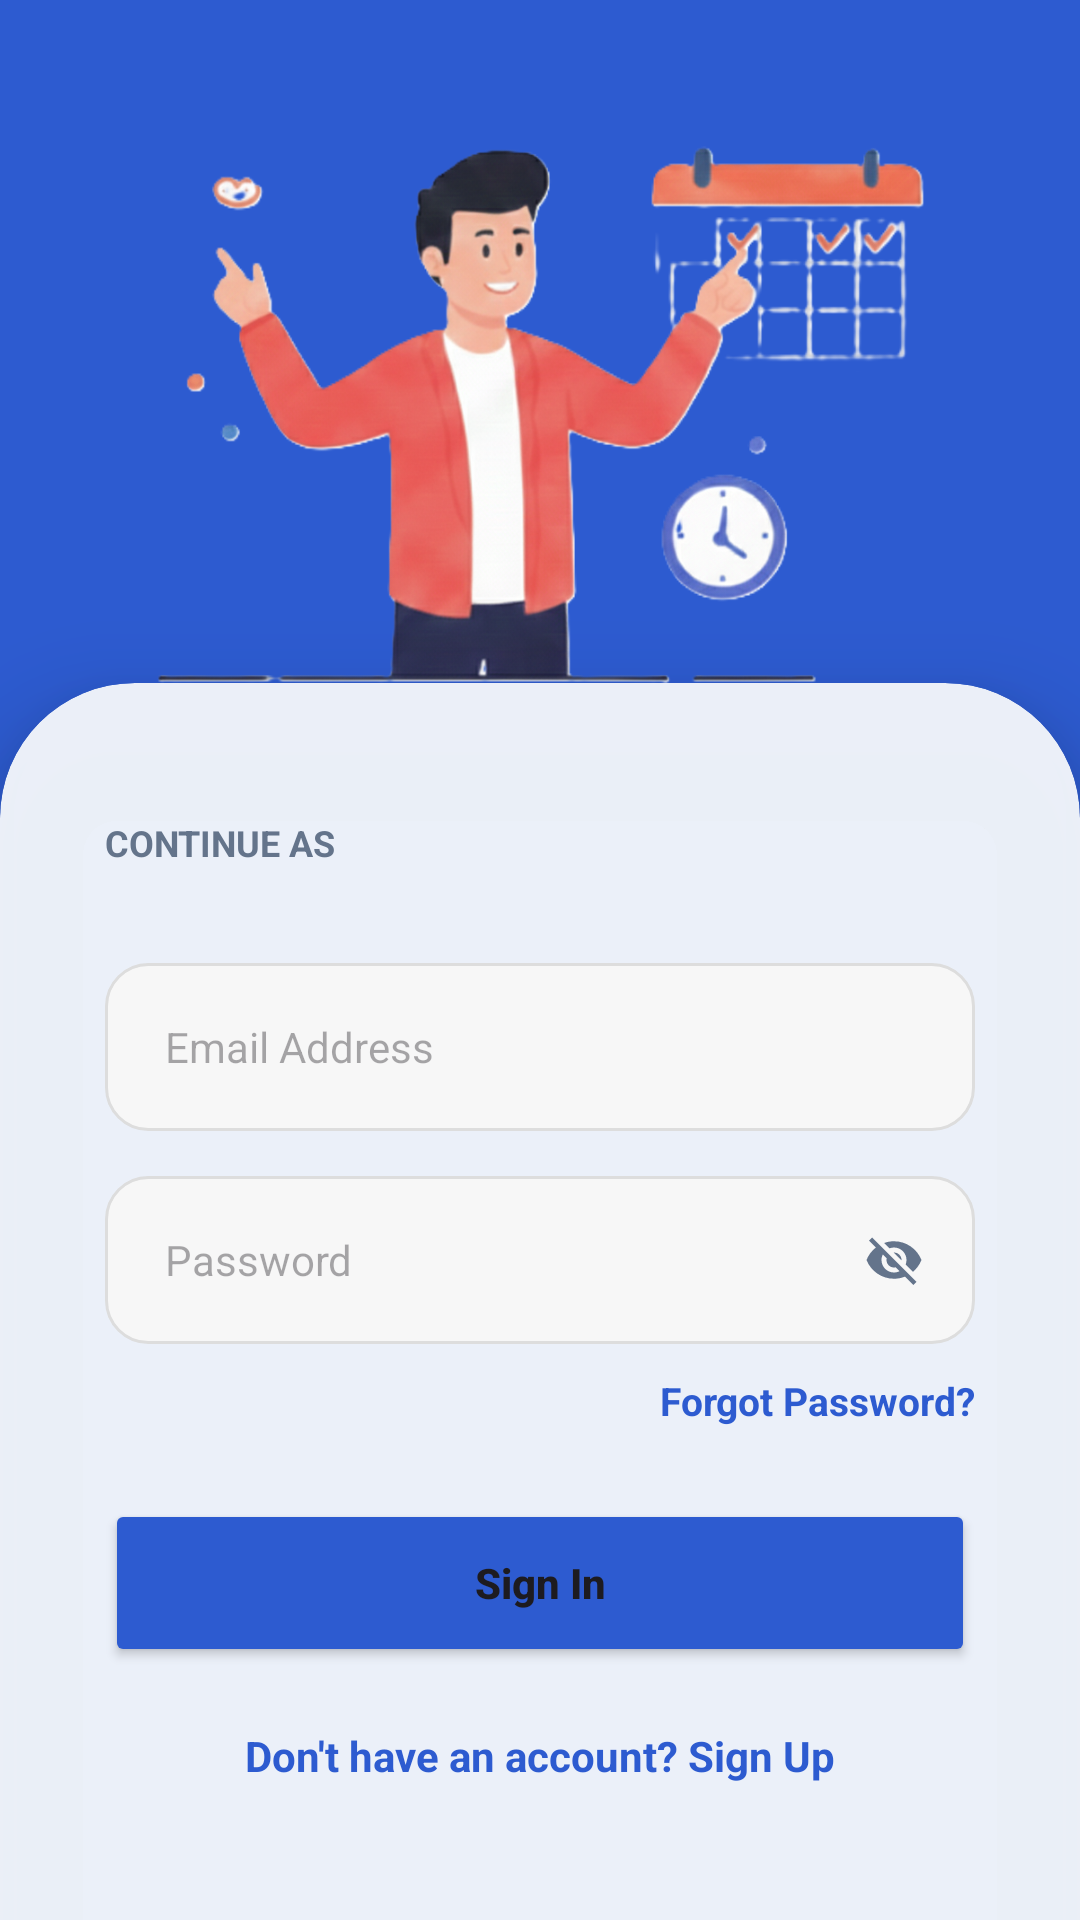

Screen size 1080×1920. Icon name, then its center in pixels as (x,y):
eye closed: (894,1261)
